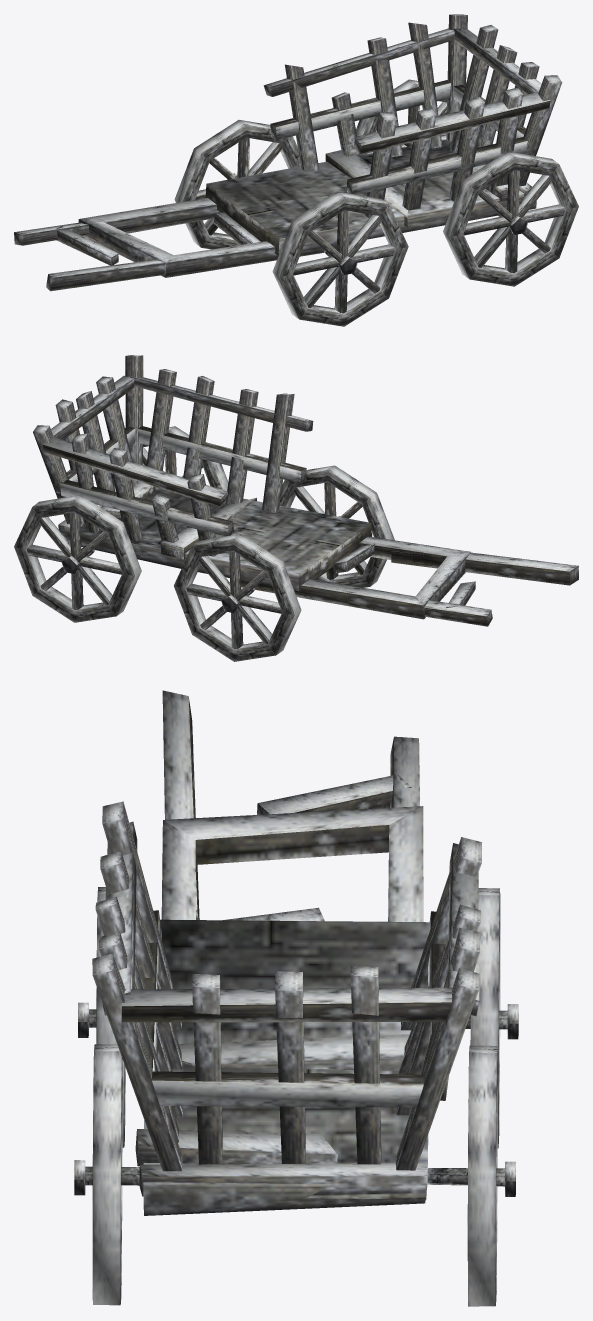
Rendered from S_Build_Snowland191.FBX.
3 renders of one model, top to bottom at view 1: azimuth 30°, elevation 25°; view 2: azimuth 150°, elevation 25°; view 3: azimuth 270°, elevation 25°, orthographic. The views are drawn at different scales.
Visible parts, largest first — view 1: S_Build_Snowland191; view 2: S_Build_Snowland191; view 3: S_Build_Snowland191.
Part boxes in pixels (<box>): S_Build_Snowland191: <box>14,14,578,326</box>; S_Build_Snowland191: <box>14,355,578,661</box>; S_Build_Snowland191: <box>74,690,518,1306</box>.
Bounding box in the file's own units: 497 × 198 × 187.
